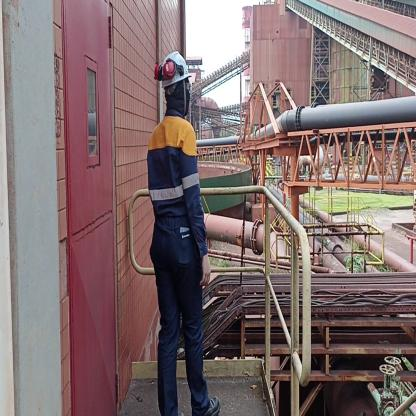Balaclava: (164, 80, 192, 116)
Capacete: (160, 51, 193, 84)
Operacional: (146, 118, 204, 233)
